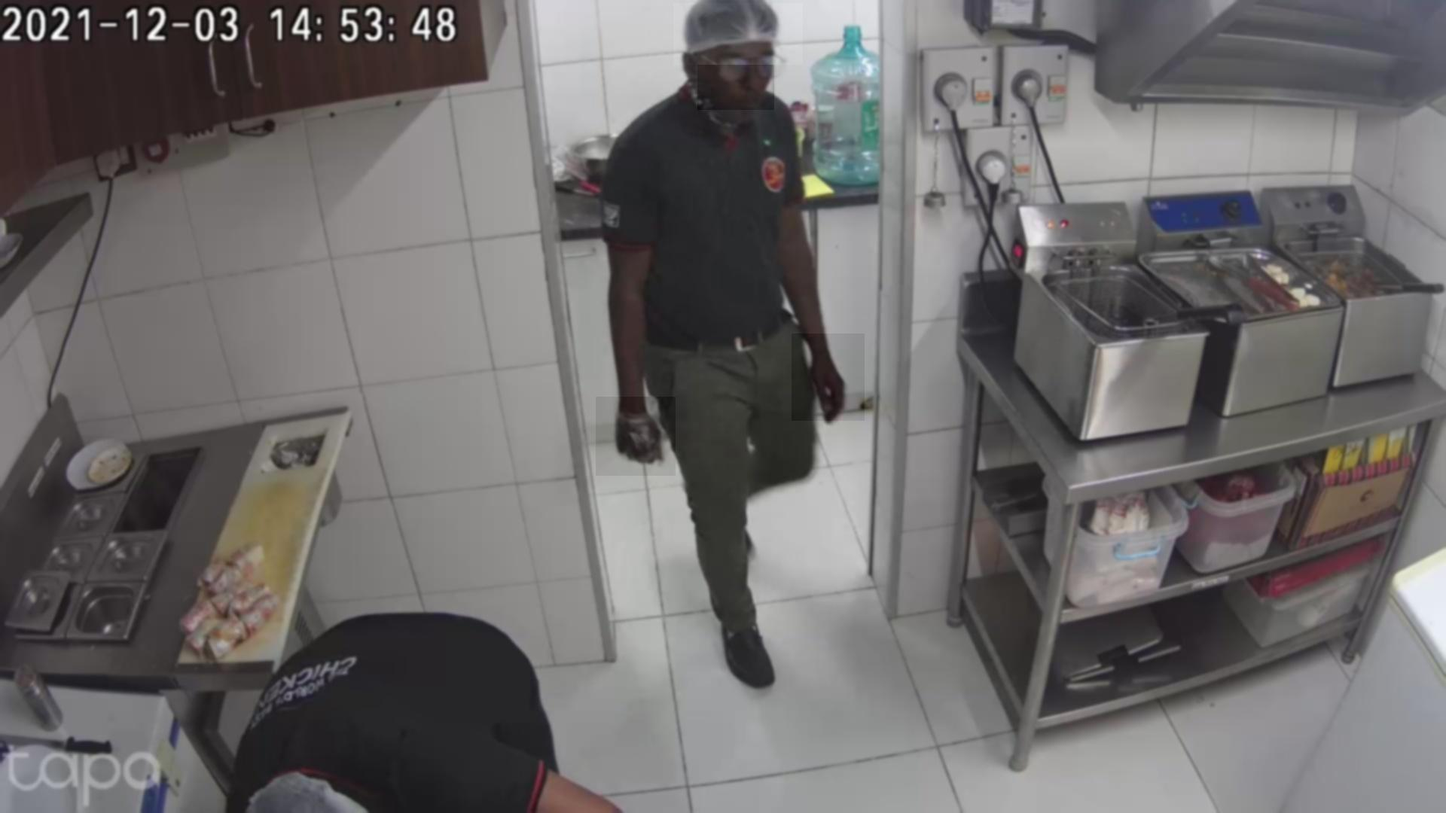apron: (596, 397, 676, 477)
gloves: (674, 3, 803, 65)
no_apron: (792, 334, 865, 421)
no_hairnet: (698, 39, 775, 111)
